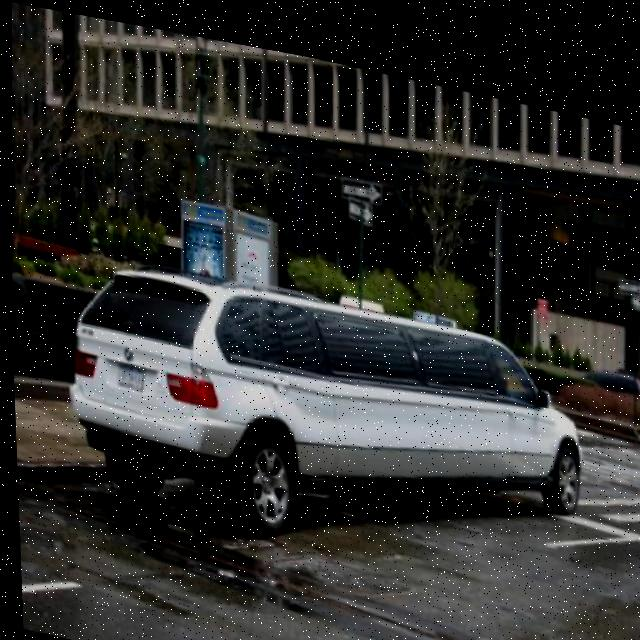license_plate: (113, 357, 142, 386)
